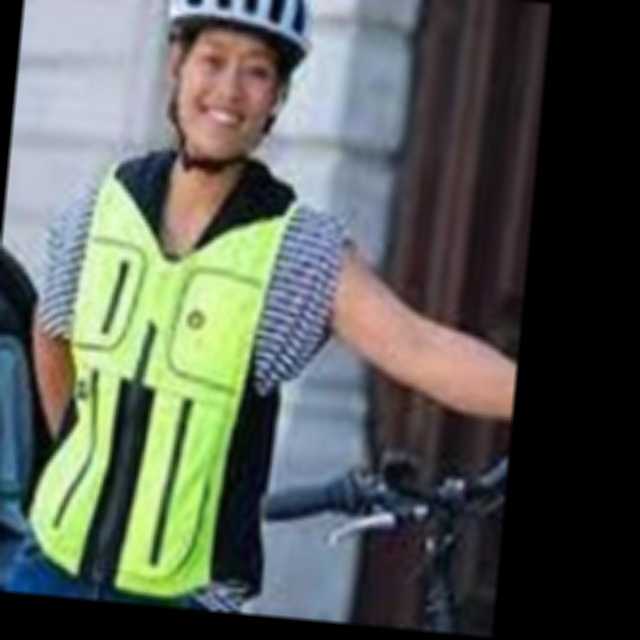Con_Chaleco: (38, 155, 295, 599)
